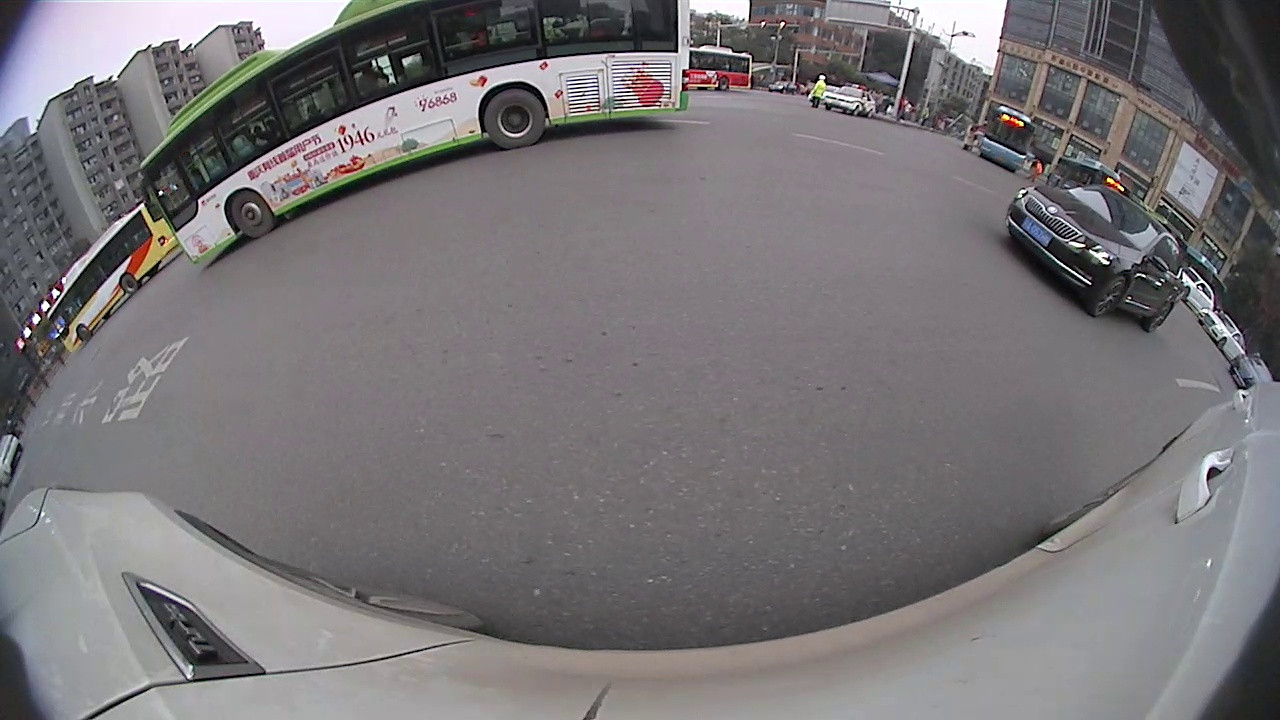bus: (136, 1, 691, 271), (41, 197, 179, 358), (973, 105, 1040, 173), (682, 40, 760, 93), (1045, 152, 1125, 203)
car: (1001, 183, 1187, 335), (1197, 303, 1247, 364), (820, 81, 884, 118), (1179, 258, 1217, 320), (1224, 352, 1274, 387)
front: (227, 189, 278, 241), (1090, 274, 1131, 318)
person: (810, 69, 826, 110)
rear: (480, 85, 549, 153), (1145, 299, 1175, 335)
